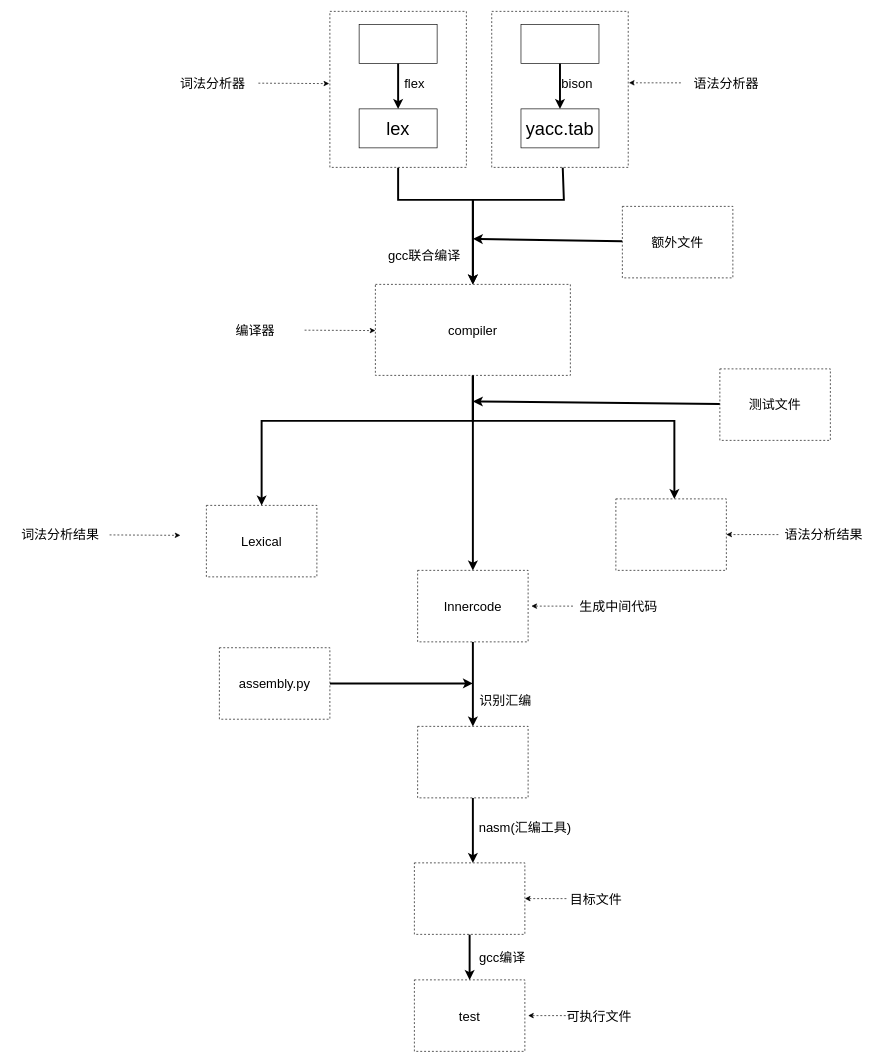
Image size: 880x1063. Some labels were removed from this diagram. Each missing label, with the box of its shape:
assembly.asm: (417, 726, 528, 798)
Grammatical: (615, 498, 726, 570)
lex.l: (358, 24, 437, 63)
test.o: (414, 862, 525, 934)
yacc.y: (520, 24, 599, 63)
